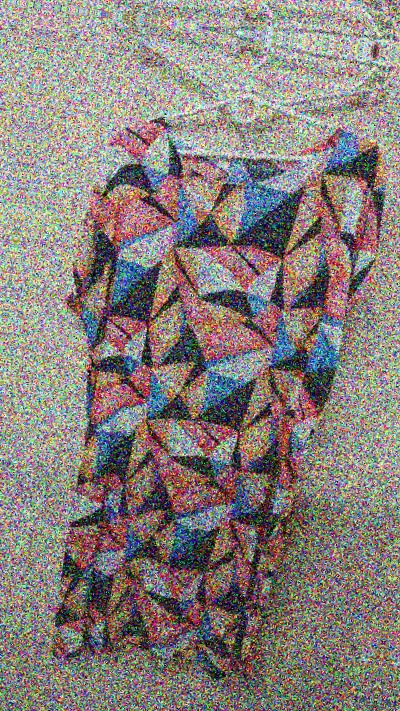Dress: (0, 64, 400, 711), (0, 9, 10, 661), (84, 0, 400, 3)
